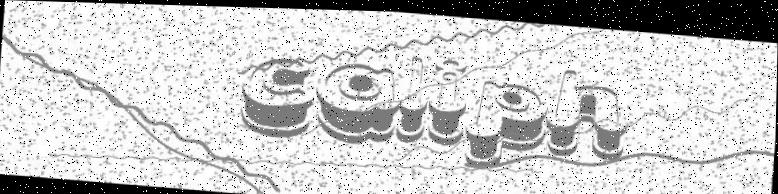a: (314, 58, 401, 146)
c: (241, 52, 318, 139)
h: (545, 62, 630, 158)
i: (426, 54, 469, 145)
l: (397, 52, 431, 142)
p: (463, 73, 550, 170)
